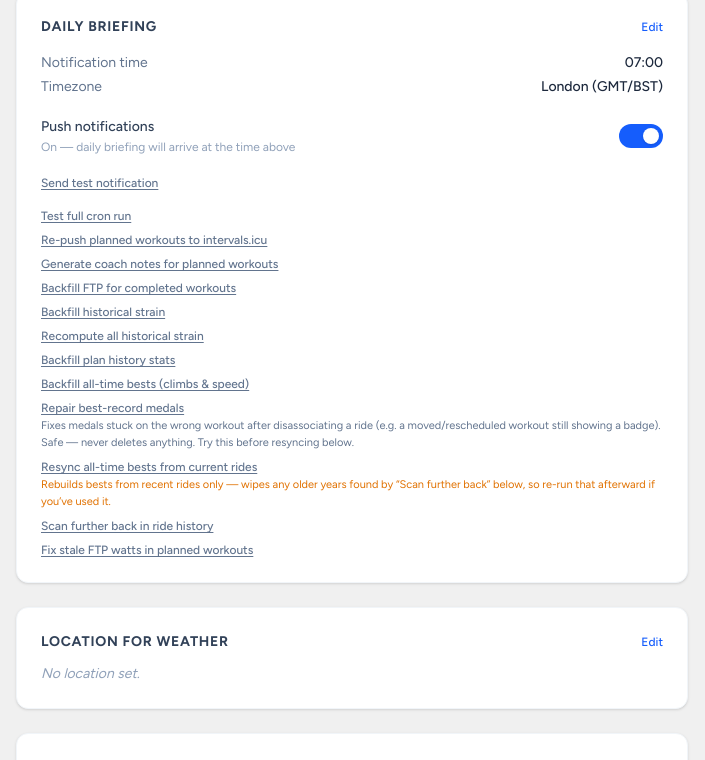
Test case: Account page — activity-metrics backfill auto-continues across batches › keeps requesting further batches without another click, until the backlog is exhausted
(page scrolled)
Click the button "Backfill all-time bests (climbs & speed)".
click(145, 384)  # box [41,376,249,392]
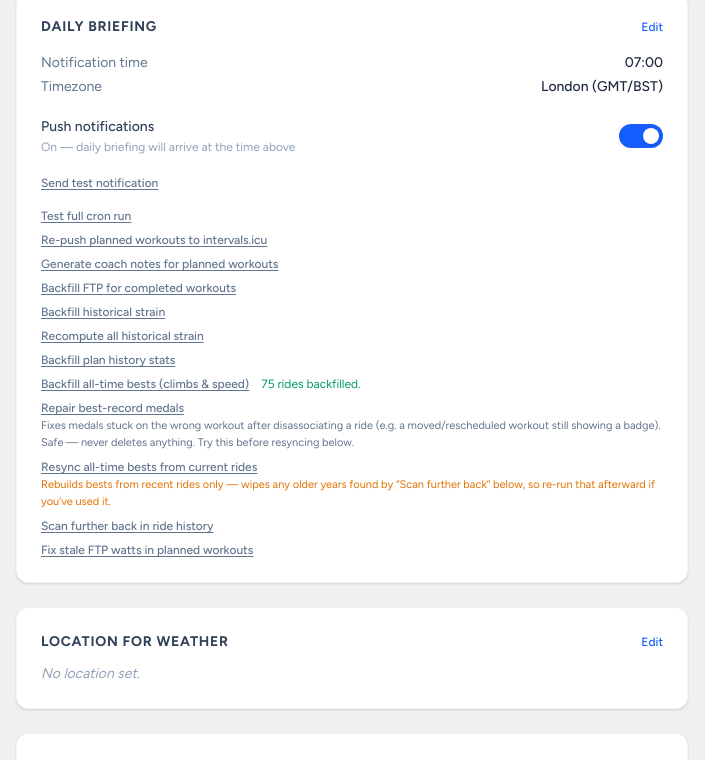
Now the text "75 rides backfilled." is shown, box [261,376,360,392]
